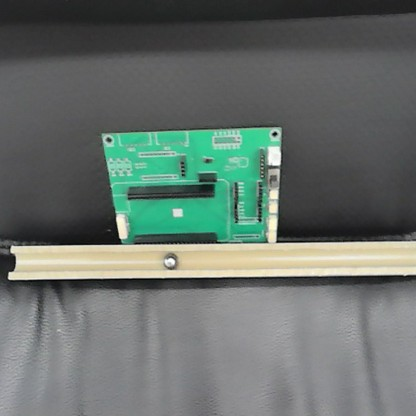ironball: (161, 249, 178, 270)
